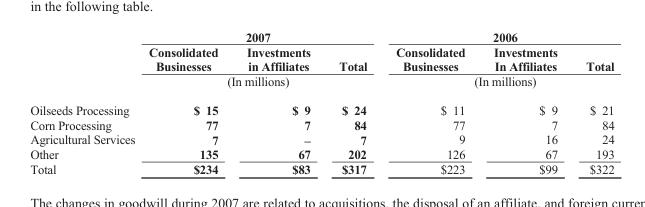table: (29, 29, 613, 175)
table column: (29, 29, 141, 175), (380, 29, 478, 175), (231, 29, 324, 175), (478, 29, 571, 175), (141, 29, 231, 175), (324, 29, 380, 175), (571, 29, 613, 175)
table column header: (29, 29, 613, 95)
table row: (29, 43, 613, 73), (29, 73, 613, 95), (29, 95, 613, 117), (29, 131, 613, 146), (29, 146, 613, 161), (29, 29, 613, 43), (29, 117, 613, 131), (29, 161, 613, 175)
table spanning cell: (141, 73, 380, 95), (380, 73, 613, 95), (141, 29, 380, 43), (380, 29, 613, 43)
